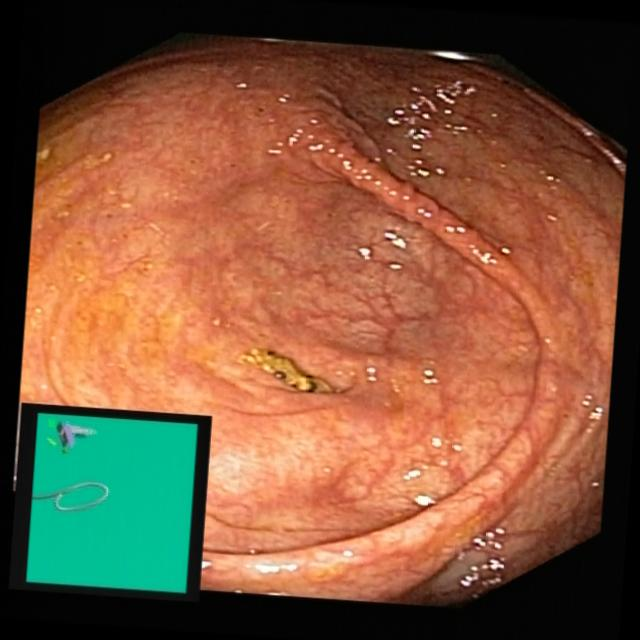normal-cecum: (21, 117, 169, 400), (225, 331, 335, 402)
